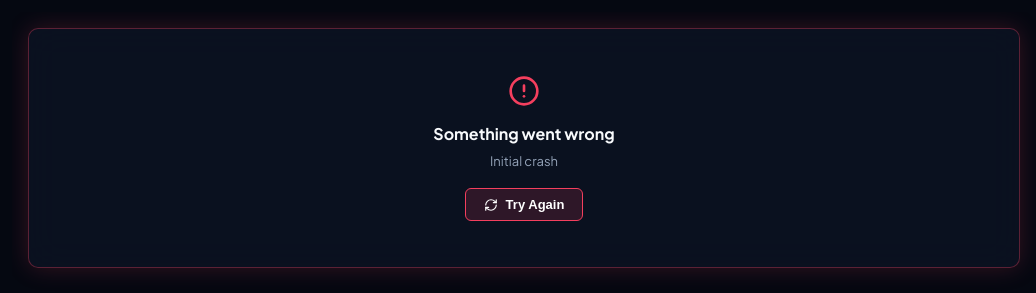
ErrorBoundary Component › resets error state when "Try Again" button is clicked
The image size is (1036, 293).
Expected: the text "Initial crash" is shown, [490, 152, 558, 170]
Step 1. Click the button "Try Again" → {"x": 524, "y": 205}, box [465, 188, 583, 221]
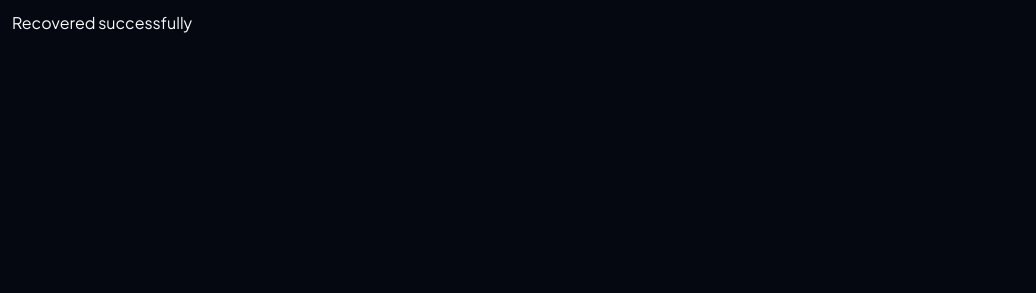
Now the message "Something went wrong Initial crash Try Again" is gone
Now the text "Recovered successfully" is shown, box [12, 12, 192, 33]
